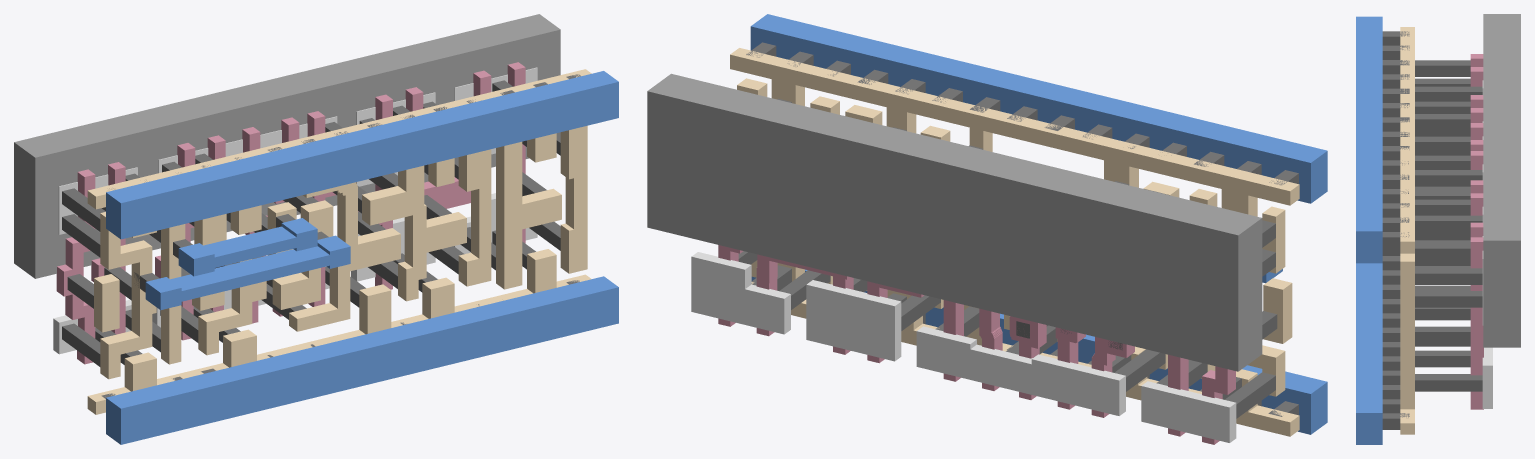
File: sky130_fd_sc_hd__dlxbn_1.gds.gltf
3 views of the same model, side by side, from view 1: azimuth 30°, elevation 25°; view 2: azimuth 150°, elevation 25°; view 3: azimuth 270°, elevation 25° (orthographic). The views are drawn at different scales.
Visible parts, largest first — view 1: sky130_fd_sc_hd__dlxbn_1_met1, sky130_fd_sc_hd__dlxbn_1_li1, sky130_fd_sc_hd__dlxbn_1_nwell, sky130_fd_sc_hd__dlxbn_1_licon, sky130_fd_sc_hd__dlxbn_1_poly, sky130_fd_sc_hd__dlxbn_1_diff, sky130_fd_sc_hd__dlxbn_1_mcon; view 2: sky130_fd_sc_hd__dlxbn_1_nwell, sky130_fd_sc_hd__dlxbn_1_li1, sky130_fd_sc_hd__dlxbn_1_met1, sky130_fd_sc_hd__dlxbn_1_diff, sky130_fd_sc_hd__dlxbn_1_poly, sky130_fd_sc_hd__dlxbn_1_licon, sky130_fd_sc_hd__dlxbn_1_mcon; view 3: sky130_fd_sc_hd__dlxbn_1_licon, sky130_fd_sc_hd__dlxbn_1_nwell, sky130_fd_sc_hd__dlxbn_1_met1, sky130_fd_sc_hd__dlxbn_1_mcon, sky130_fd_sc_hd__dlxbn_1_li1, sky130_fd_sc_hd__dlxbn_1_poly, sky130_fd_sc_hd__dlxbn_1_diff.
Boxes of the visible parts, x1,y1,x2,y2 form: sky130_fd_sc_hd__dlxbn_1_met1: (106,71,618,444); sky130_fd_sc_hd__dlxbn_1_li1: (87,69,591,414); sky130_fd_sc_hd__dlxbn_1_nwell: (14,14,560,278); sky130_fd_sc_hd__dlxbn_1_licon: (62,80,560,366); sky130_fd_sc_hd__dlxbn_1_poly: (56,62,525,364); sky130_fd_sc_hd__dlxbn_1_diff: (53,67,537,354); sky130_fd_sc_hd__dlxbn_1_mcon: (101,74,580,398); sky130_fd_sc_hd__dlxbn_1_nwell: (647,73,1262,371); sky130_fd_sc_hd__dlxbn_1_li1: (730,48,1299,436); sky130_fd_sc_hd__dlxbn_1_met1: (750,14,1327,434); sky130_fd_sc_hd__dlxbn_1_diff: (691,252,1236,442); sky130_fd_sc_hd__dlxbn_1_poly: (718,245,1235,444); sky130_fd_sc_hd__dlxbn_1_licon: (738,98,1277,418); sky130_fd_sc_hd__dlxbn_1_mcon: (746,42,1298,416); sky130_fd_sc_hd__dlxbn_1_licon: (1415,60,1482,391); sky130_fd_sc_hd__dlxbn_1_nwell: (1483,14,1520,347); sky130_fd_sc_hd__dlxbn_1_met1: (1356,16,1382,444); sky130_fd_sc_hd__dlxbn_1_mcon: (1382,31,1409,429); sky130_fd_sc_hd__dlxbn_1_li1: (1400,27,1414,434); sky130_fd_sc_hd__dlxbn_1_poly: (1470,54,1483,409); sky130_fd_sc_hd__dlxbn_1_diff: (1482,80,1492,408).
Bounding box in the file's own units: 7.28 × 3.2 × 2.24.
